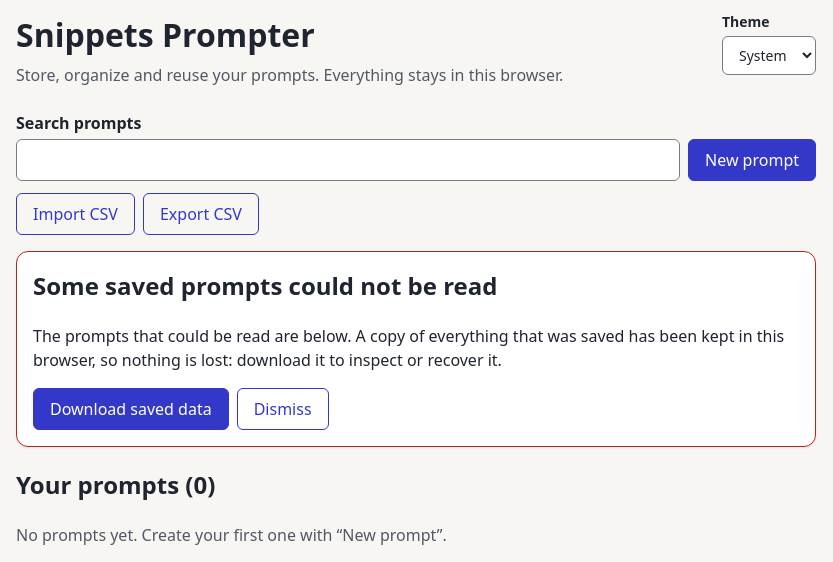
Test: recovery › tells the user when saved data could not be read, and keeps a copy
expect the heading "Some saved prompts could not be read" is shown: met, box [33,269,498,302]
Click the button "Dismiss". click: (283, 409)
box: [237,388,329,430]
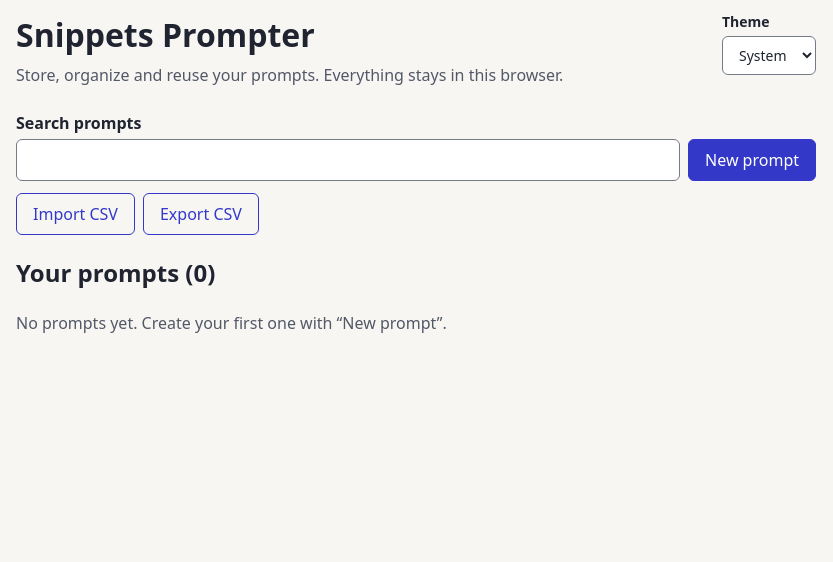
expect the heading "could not be read" is gone: met
